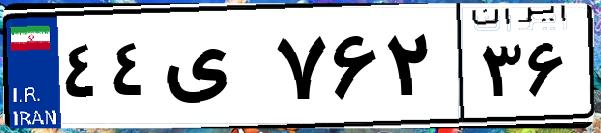2: (385, 28, 445, 110)
3: (475, 38, 525, 113)
4: (57, 26, 110, 100), (110, 28, 158, 98)
6: (330, 28, 385, 110), (525, 38, 570, 115)
7: (270, 28, 330, 110)
ی: (158, 20, 270, 120)
